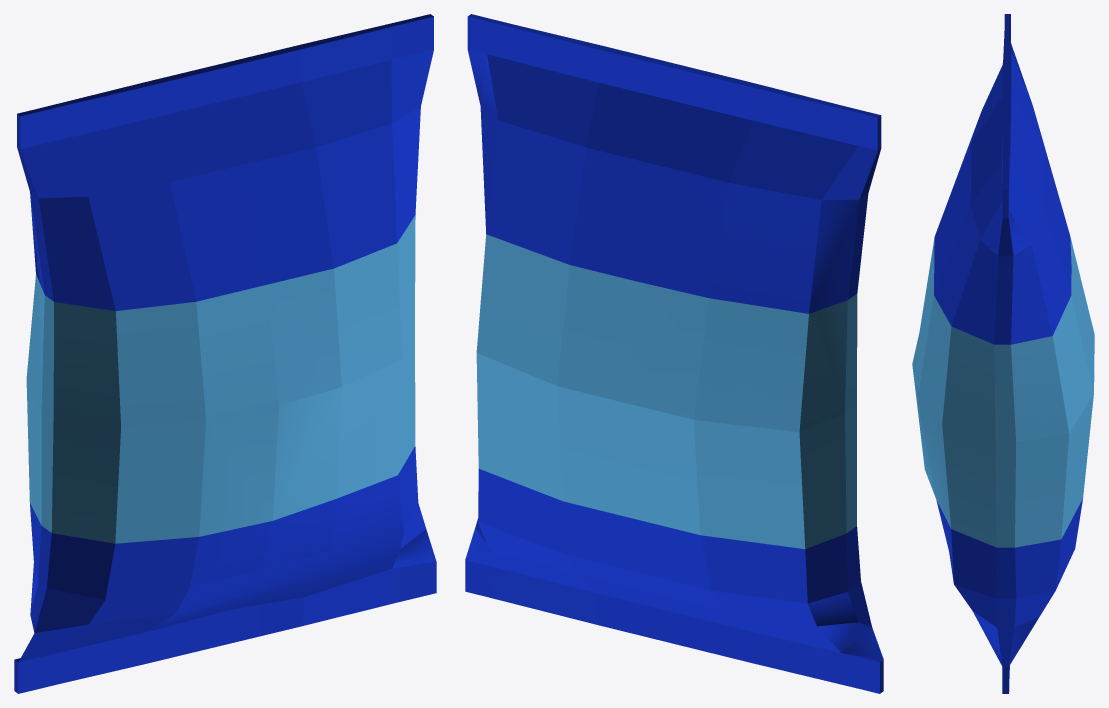
File: Chip Bag.fbx
3 renders of one model, left to right at view 1: azimuth 30°, elevation 25°; view 2: azimuth 150°, elevation 25°; view 3: azimuth 270°, elevation 25°, orthographic. The views are drawn at different scales.
Parts seen in each view (by area): view 1: Node 0; view 2: Node 0; view 3: Node 0.
Boxes of the visible parts, <box> form: Node 0: <box>14,14,436,693</box>; Node 0: <box>465,14,883,693</box>; Node 0: <box>912,14,1094,693</box>.
Size of the model in its own units: 0.0684 by 0.2081 by 0.1574.
